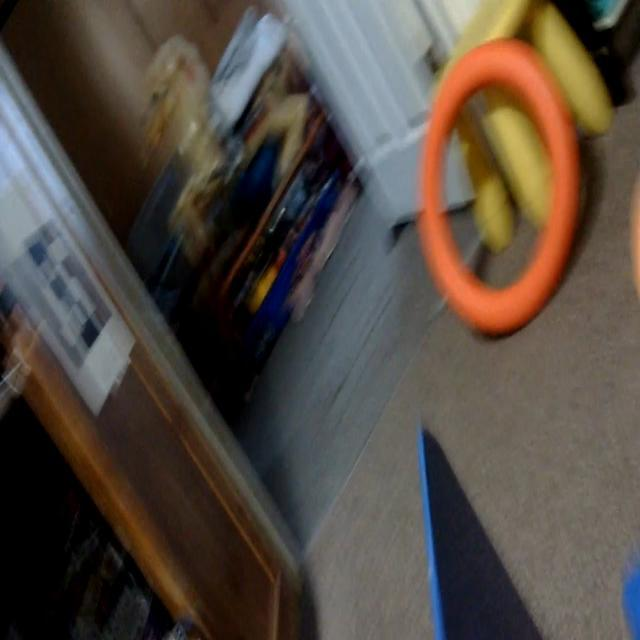note: (422, 33, 578, 341)
